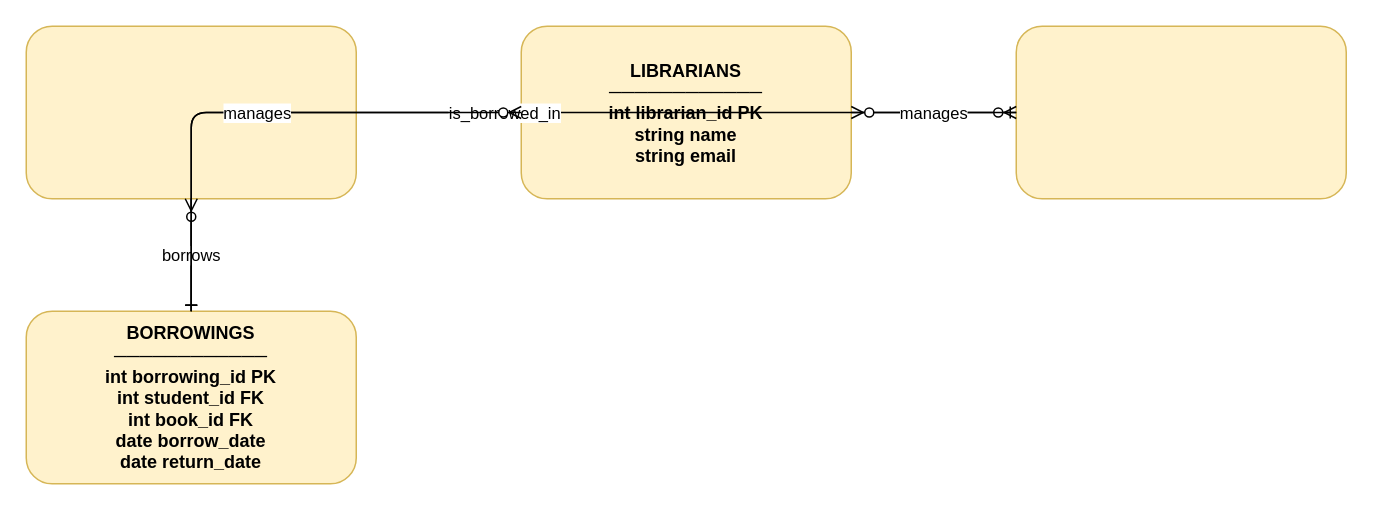
This 1373x510 diagram has some shape labels left out. Each missing label, with the box of its shape:
BOOKS ──────────── int book_id PK string title string author string isbn: (1015, 25, 1346, 199)
STUDENTS ──────────── int student_id PK string name string email: (25, 25, 356, 199)
